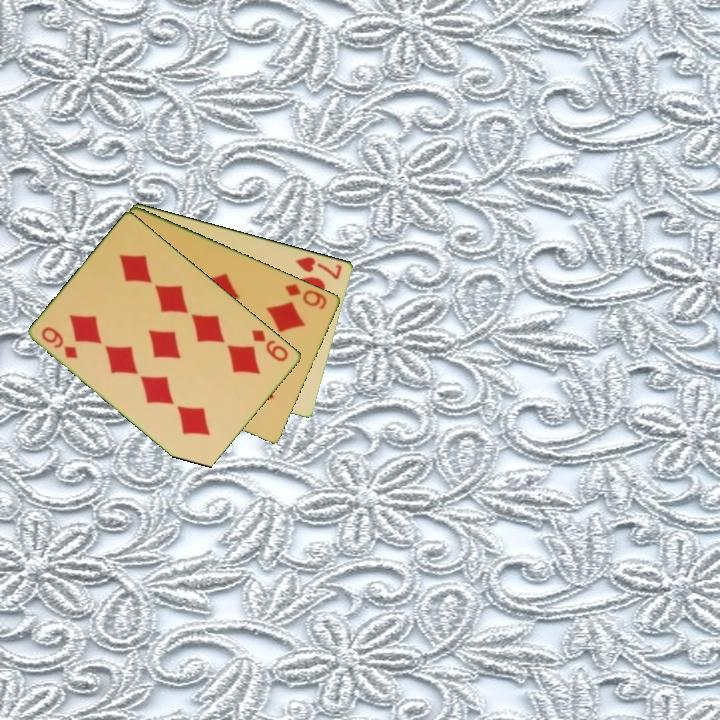6d: (282, 280, 330, 312)
7h: (291, 253, 345, 282)
9d: (248, 326, 292, 365), (38, 323, 81, 361)
